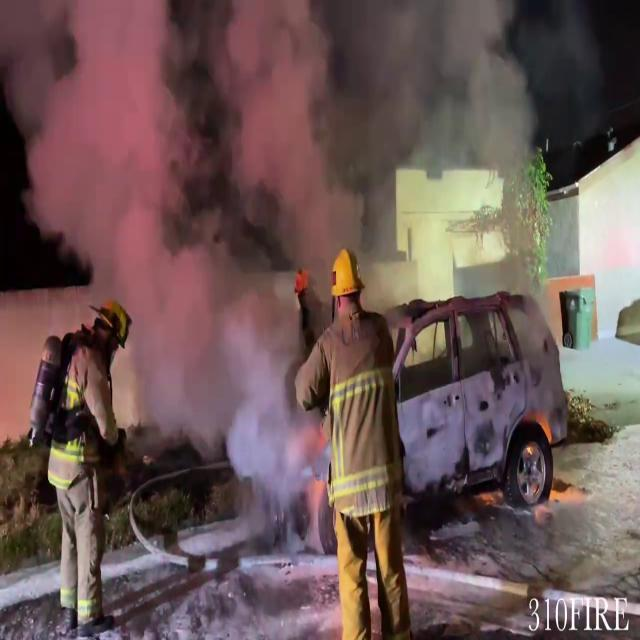Smoke: (0, 1, 585, 456)
